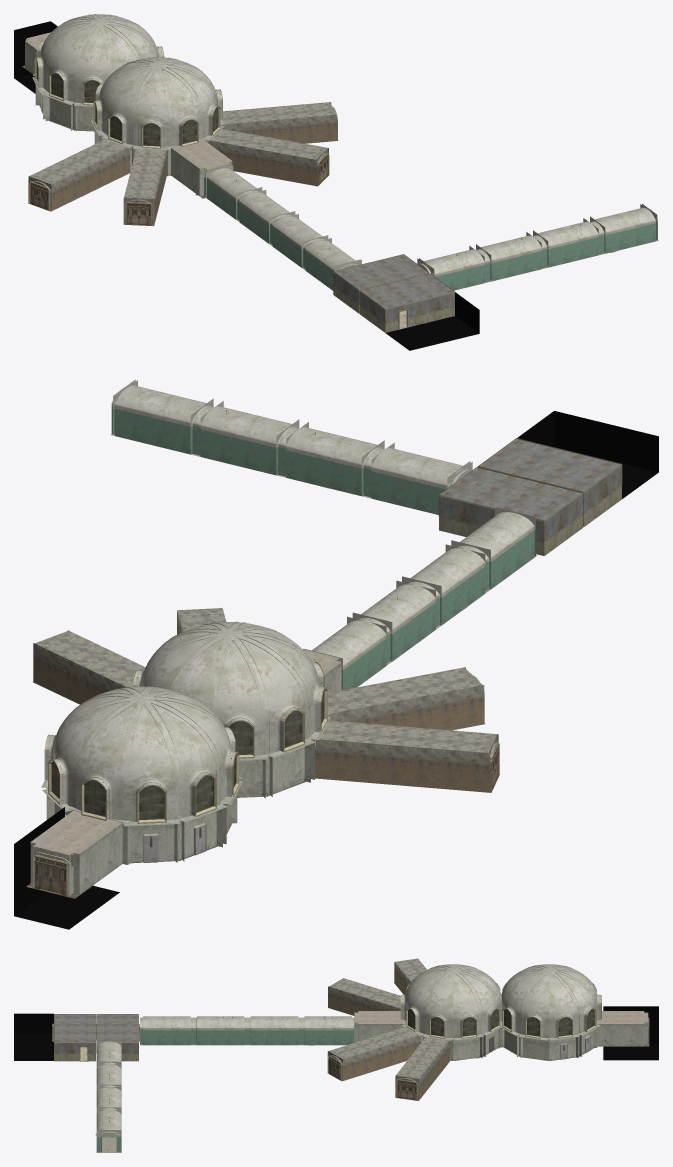
File: the_hospital_1_of_4-compressed.glb
The picture shows the model from 3 angles, top to bottom: view 1: azimuth 30°, elevation 25°; view 2: azimuth 150°, elevation 25°; view 3: azimuth 270°, elevation 25°; orthographic projection. The views are drawn at different scales.
Visible parts, largest first — view 1: MZ1; view 2: MZ1; view 3: MZ1.
Boxes of the visible parts, x1,y1,x2,y2 form: MZ1: [14, 14, 658, 350]; MZ1: [14, 379, 658, 929]; MZ1: [14, 958, 658, 1152].
Size of what is drawn, in the model's own units: 63.12 by 13.94 by 99.14.
Materials: 65 (62 with a texture image).
